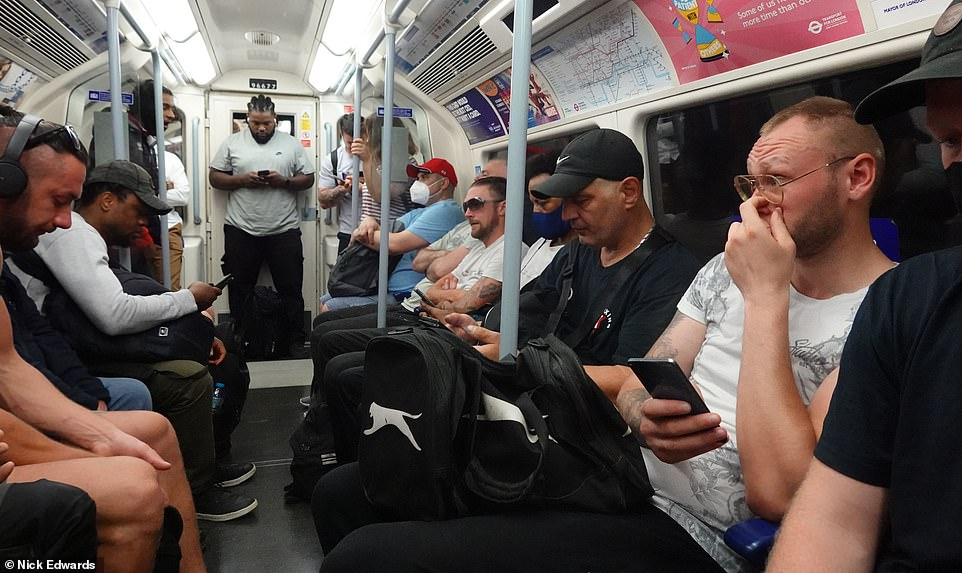with_mask: (406, 169, 442, 207)
without_mask: (735, 150, 836, 260), (16, 160, 85, 252), (554, 189, 625, 251), (112, 195, 156, 249), (462, 189, 498, 241), (247, 115, 277, 144)
